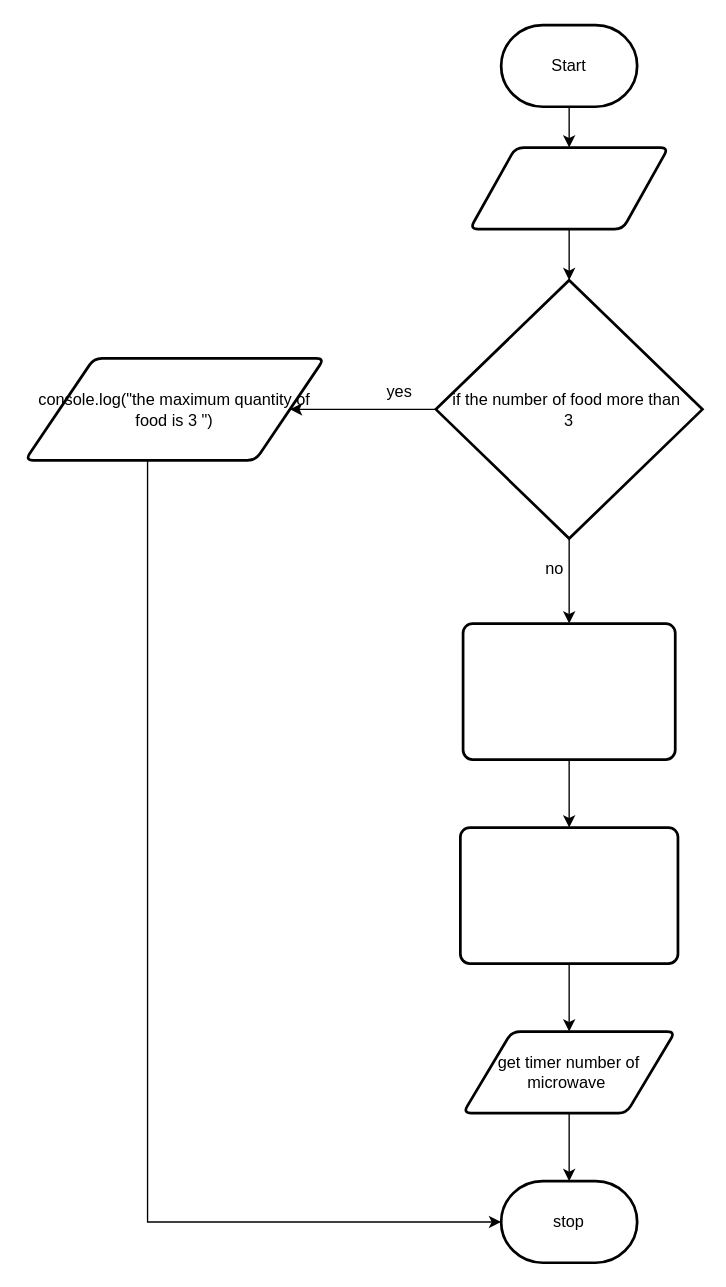
Some shapes in this 726 by 1287 pixel diagram are drawn without their labels. Here are the shapes that lost their labels. From the top down, the centre of each, then its label:
At pixel 568 188: "get microwave food".
At pixel 568 691: "1 Item = increase 0% 2 Item = increase 50% 3 Item = increase 100%".
At pixel 568 895: "1*sub = 1 min 1*pizza = 45 sec 1*soup = 1 min 45 sec".
